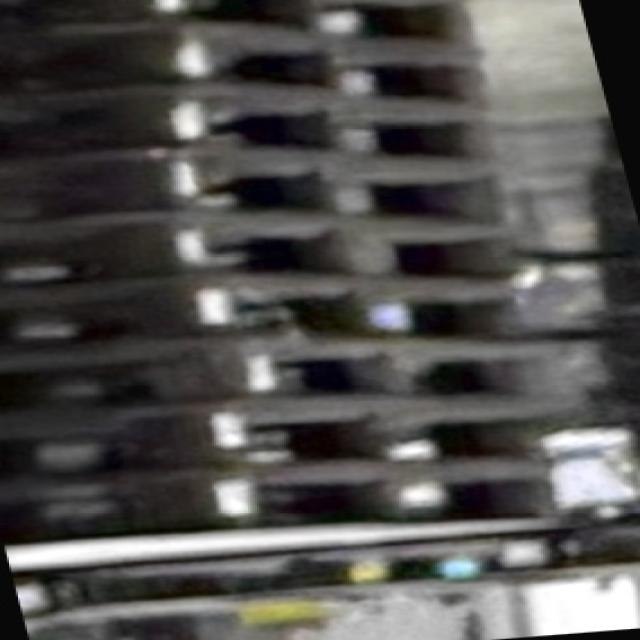igps: (0, 155, 523, 233), (0, 409, 578, 475), (0, 284, 540, 354), (0, 348, 552, 416), (0, 98, 512, 171), (0, 220, 524, 290), (0, 470, 580, 533), (0, 32, 496, 104), (0, 0, 493, 52)
